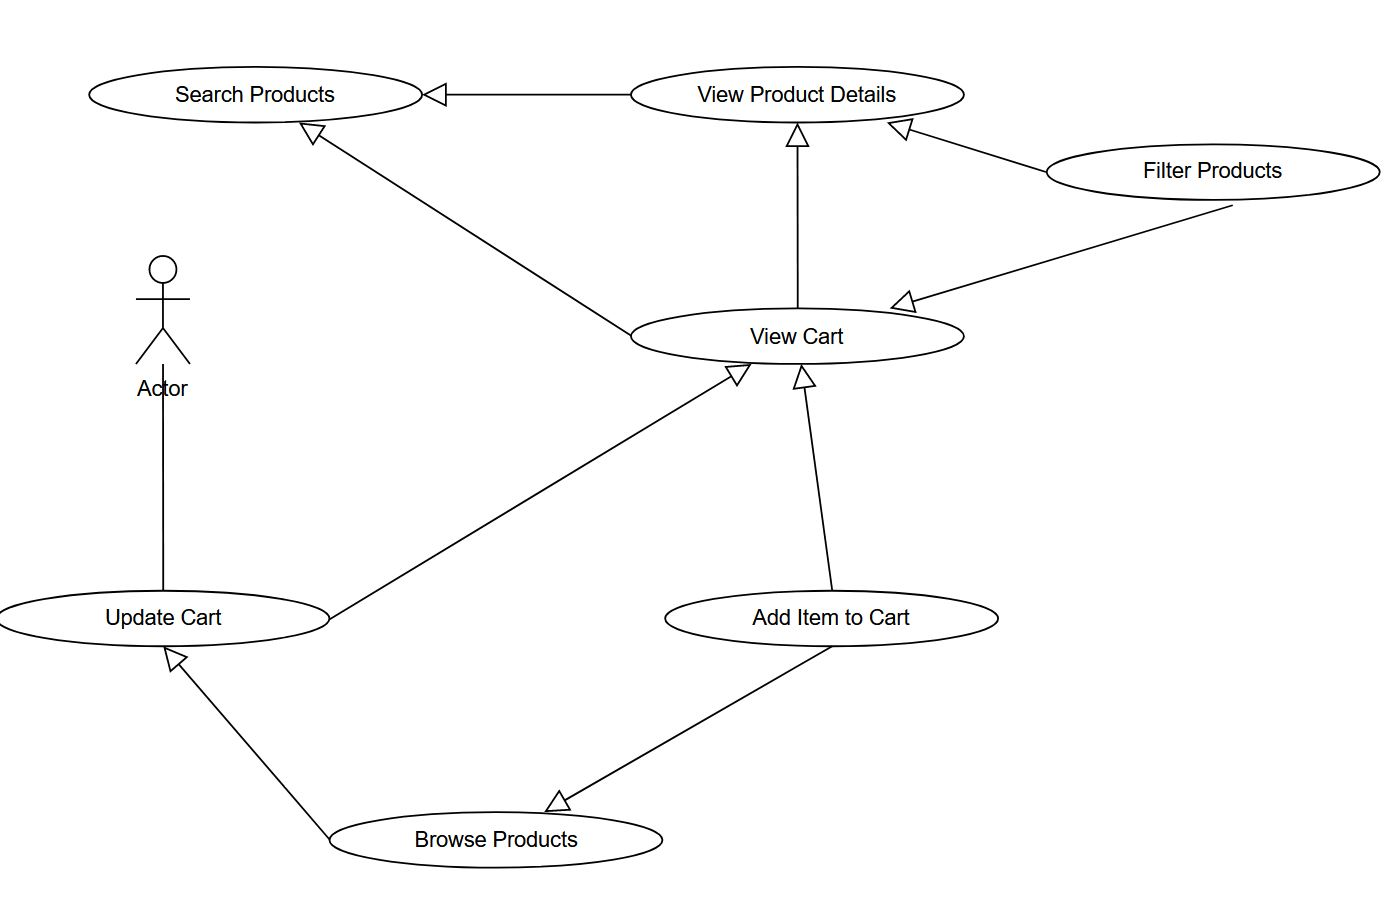actor: (133, 250, 197, 369)
association: (153, 365, 177, 586)
generalization: (333, 361, 753, 621), (295, 119, 632, 337), (545, 644, 836, 814), (891, 203, 1242, 312), (161, 646, 328, 834), (790, 363, 835, 587), (883, 117, 1046, 175), (778, 123, 815, 303), (421, 81, 630, 109)
text: (688, 81, 905, 110), (409, 824, 581, 853), (173, 81, 341, 109), (753, 602, 915, 630), (1138, 156, 1287, 184), (95, 604, 233, 631), (742, 318, 852, 350), (135, 381, 195, 400)
use_case: (665, 587, 1001, 650), (86, 63, 422, 125), (628, 306, 967, 367), (329, 809, 667, 870), (1, 588, 332, 650), (629, 65, 965, 125), (1044, 143, 1380, 203)
